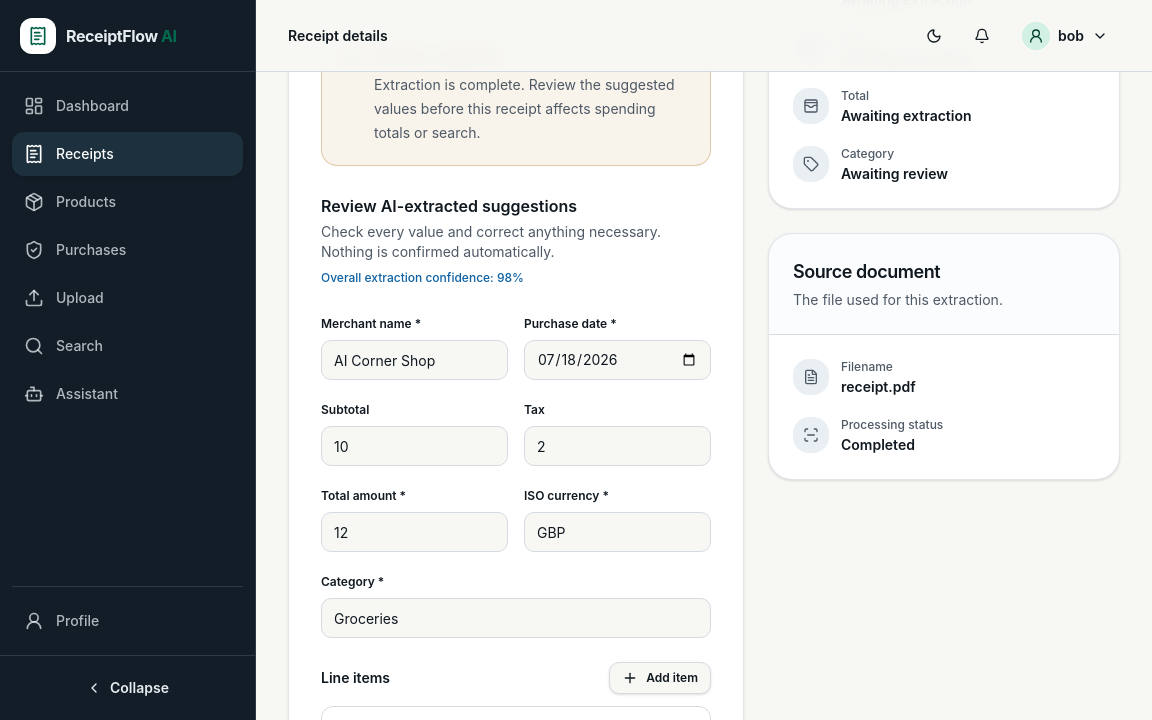
Test: Receipt processing and review page › persists user corrections and confirms explicitly
(page scrolled)
Replace the text in the field labelled "Merchant name *" with "Corrected Shop": (414,360) [321,340,508,380]
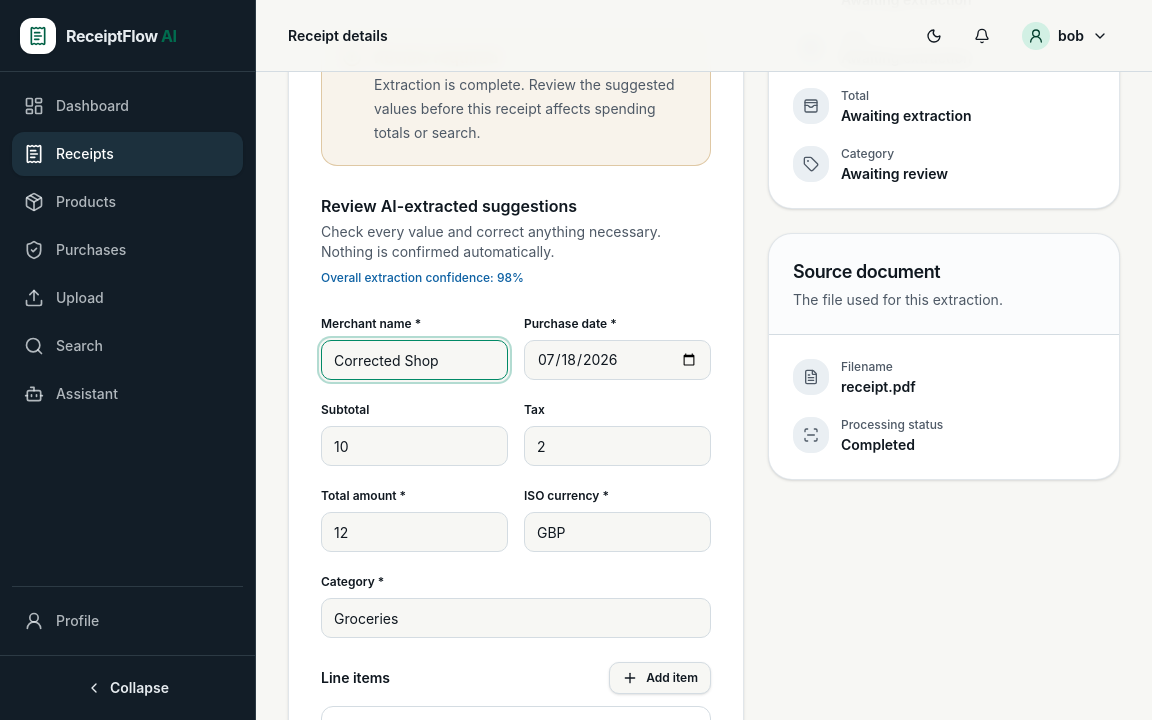
Replace the text in the field labelled "Category *" with "Food": (516,618) [321,598,711,638]
(page scrolled)
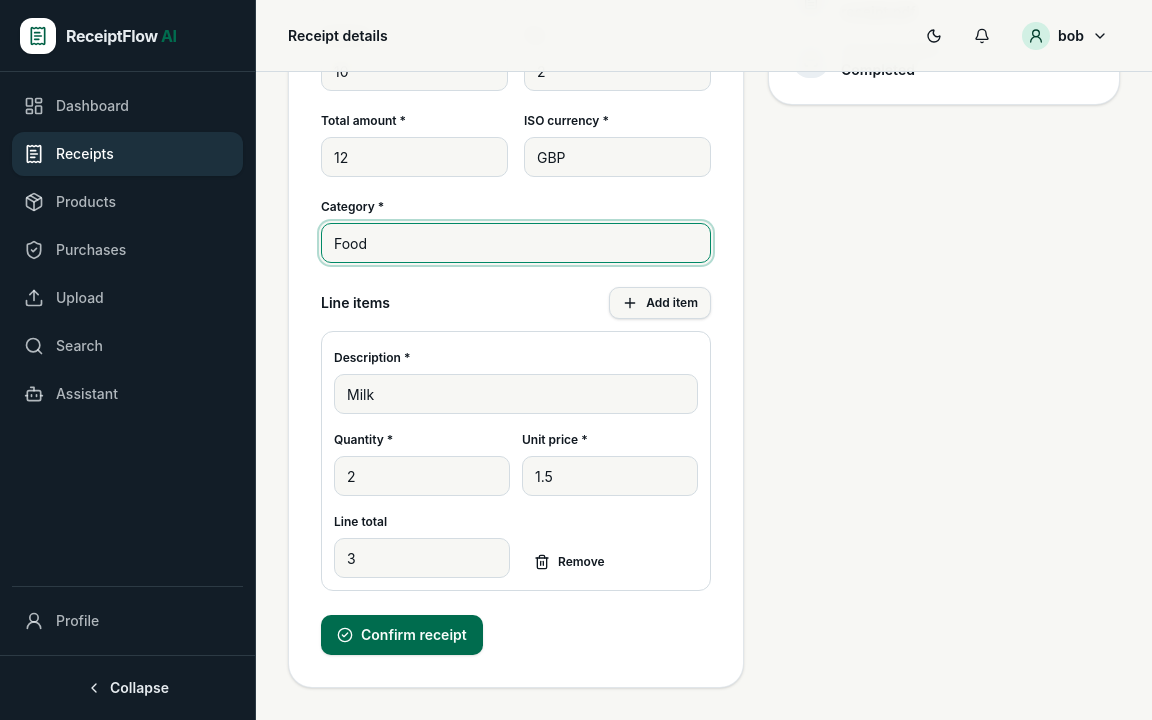
Click the button "Confirm receipt": (402,635) [321,615,483,655]
(page scrolled)
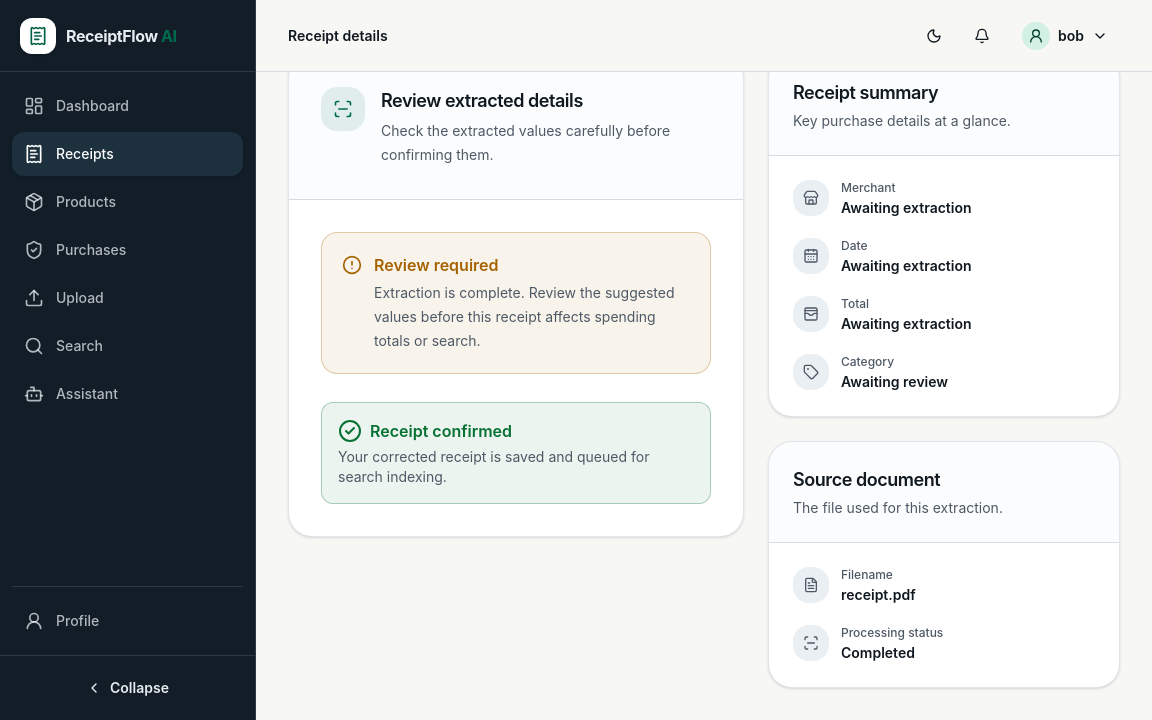
Expected: the text "Receipt confirmed" is shown, [338,419,512,443]
